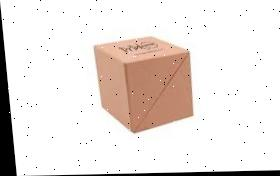cube: (91, 37, 195, 133)
